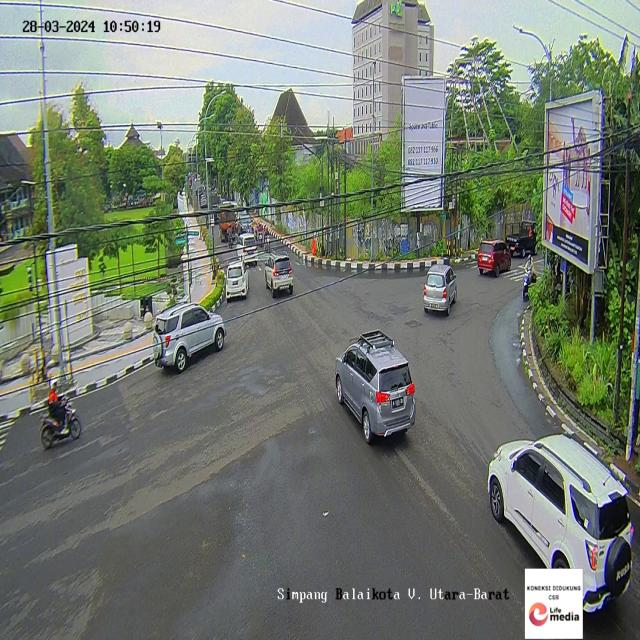car: (487, 433, 635, 617), (334, 329, 418, 443), (150, 300, 227, 372), (422, 266, 458, 316), (477, 239, 513, 277), (265, 258, 295, 296), (226, 258, 248, 299), (236, 232, 258, 268)
motorcycle: (40, 380, 83, 451), (524, 257, 535, 302), (263, 226, 270, 255)
